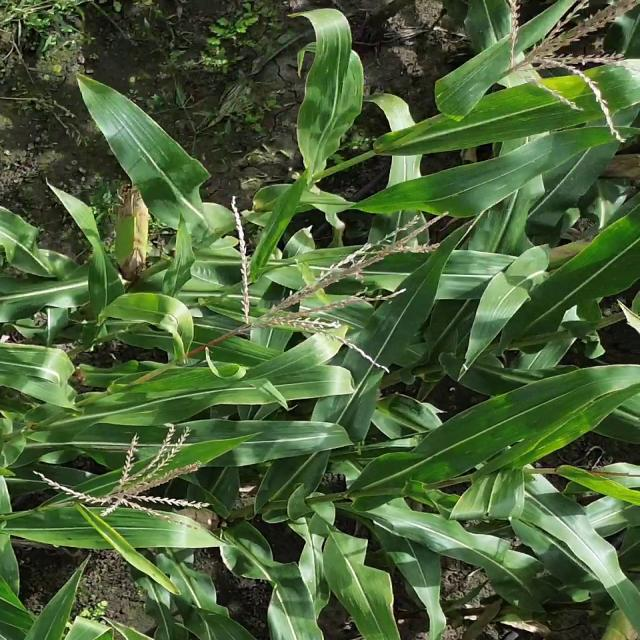gray-leaf-spot: (420, 78, 546, 127), (327, 563, 391, 640)
